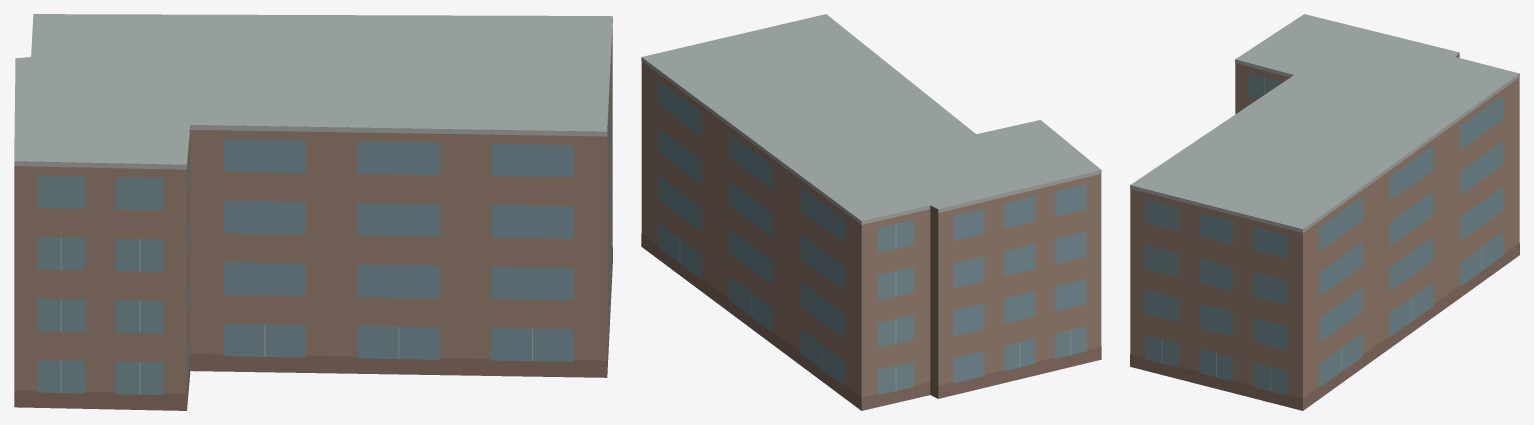
File: survey-upis-32657204.glb
The picture shows the model from 3 angles, left to right: view 1: azimuth 30°, elevation 25°; view 2: azimuth 150°, elevation 25°; view 3: azimuth 270°, elevation 25°; orthographic projection. The views are drawn at different scales.
Parts seen in each view (by area): view 1: survey-upis-32657204.tmp; view 2: survey-upis-32657204.tmp; view 3: survey-upis-32657204.tmp.
Boxes of the visible parts, x1,y1,x2,y2 form: survey-upis-32657204.tmp: (14,14,612,410); survey-upis-32657204.tmp: (641,14,1101,410); survey-upis-32657204.tmp: (1130,14,1519,410).
Size of the model in its own units: 31.01 by 12.2 by 23.73.
